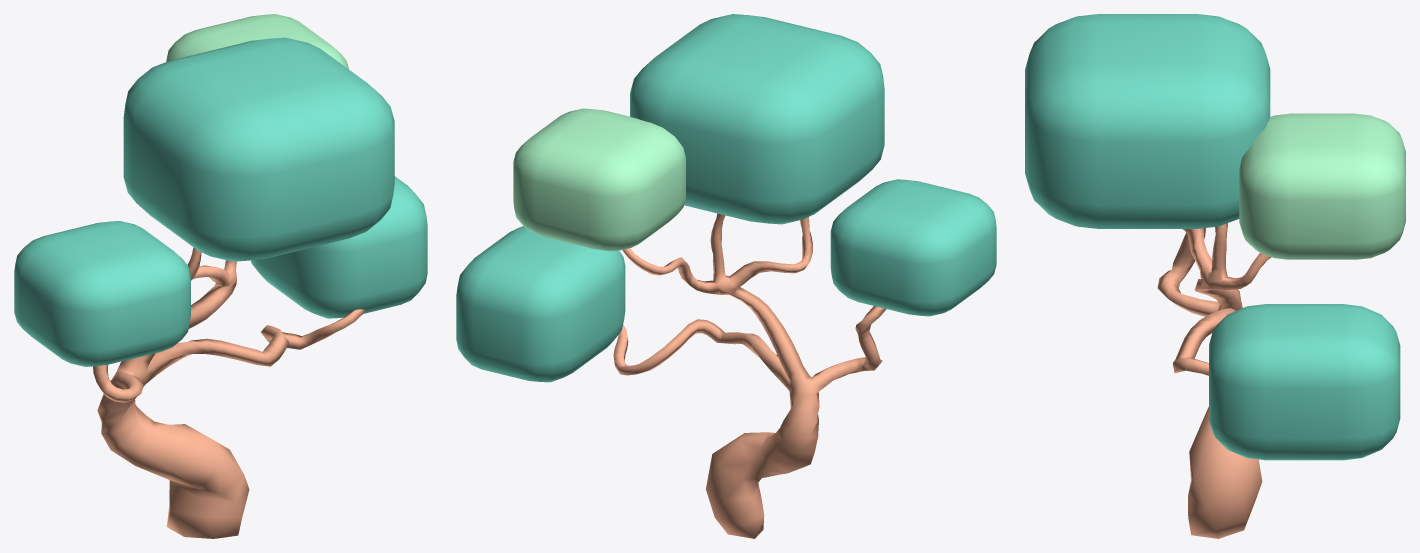
Rendered from MSH_treeSmall.fbx.
3 renders of one model, left to right at view 1: azimuth 30°, elevation 25°; view 2: azimuth 150°, elevation 25°; view 3: azimuth 270°, elevation 25°, orthographic. The views are drawn at different scales.
Parts seen in each view (by area): view 1: Leafs, Trunk; view 2: Leafs, Trunk; view 3: Leafs, Trunk.
Part boxes in pixels (x1,y1,x2,y2): Leafs: [14, 14, 427, 366]; Trunk: [93, 247, 364, 538]; Leafs: [456, 14, 996, 382]; Trunk: [613, 213, 886, 538]; Leafs: [1025, 14, 1405, 460]; Trunk: [1157, 223, 1271, 538].
Size of the model in its own units: 298 by 415 by 429.
